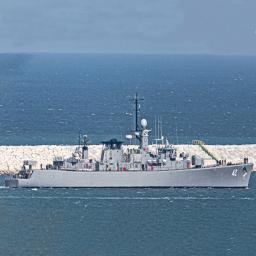Fragata: (5, 93, 255, 191)
